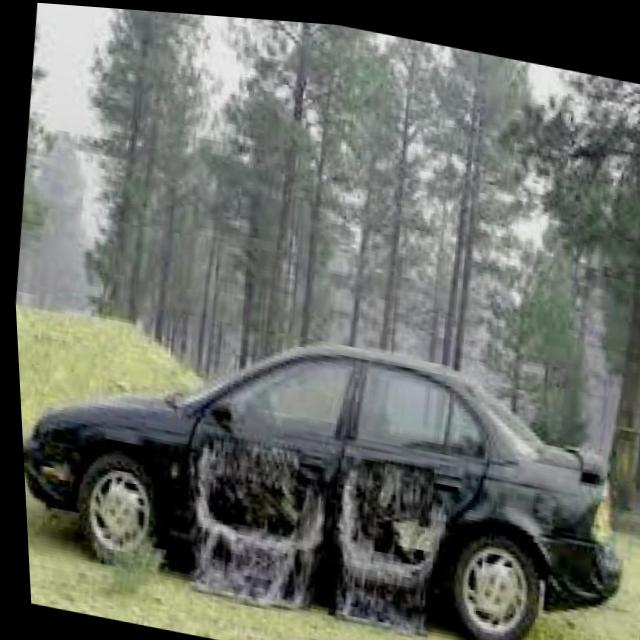Car-Damage: (171, 415, 482, 635)
